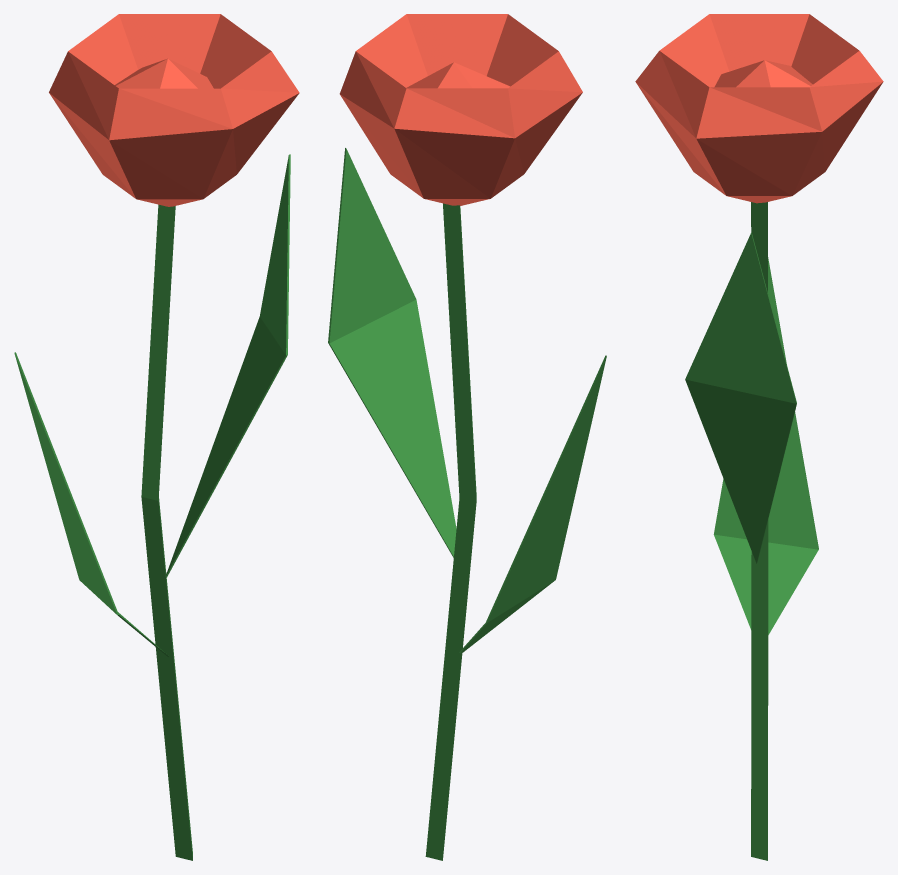
The model's file is red_flower1.obj.
The picture shows the model from 3 angles, left to right: view 1: azimuth 30°, elevation 25°; view 2: azimuth 150°, elevation 25°; view 3: azimuth 270°, elevation 25°; orthographic projection.
Bounding box in the file's own units: 1.05 × 3.01 × 0.85.
